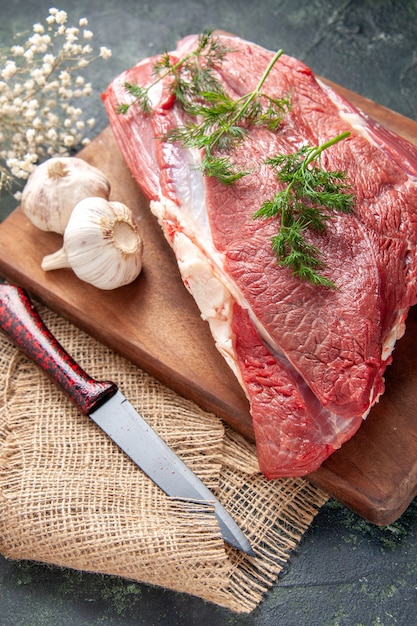knife: (0, 284, 259, 559)
